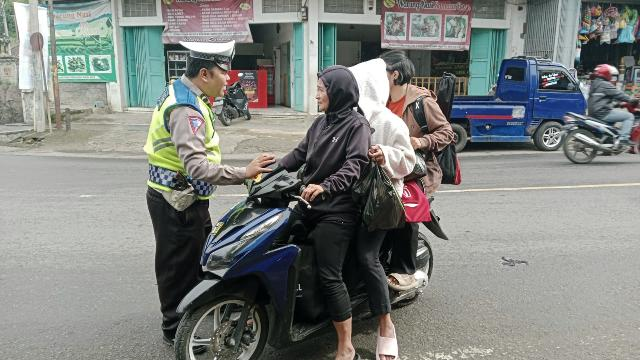helm: (595, 64, 619, 82)
motor: (175, 165, 443, 360), (564, 111, 640, 165), (217, 80, 249, 126)
non-helm: (317, 66, 360, 113), (382, 51, 415, 87)
